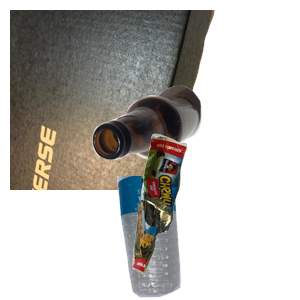cardboard: (10, 10, 217, 190)
glass: (90, 83, 300, 235)
plastic: (115, 176, 288, 300)
trash: (130, 131, 300, 300)
